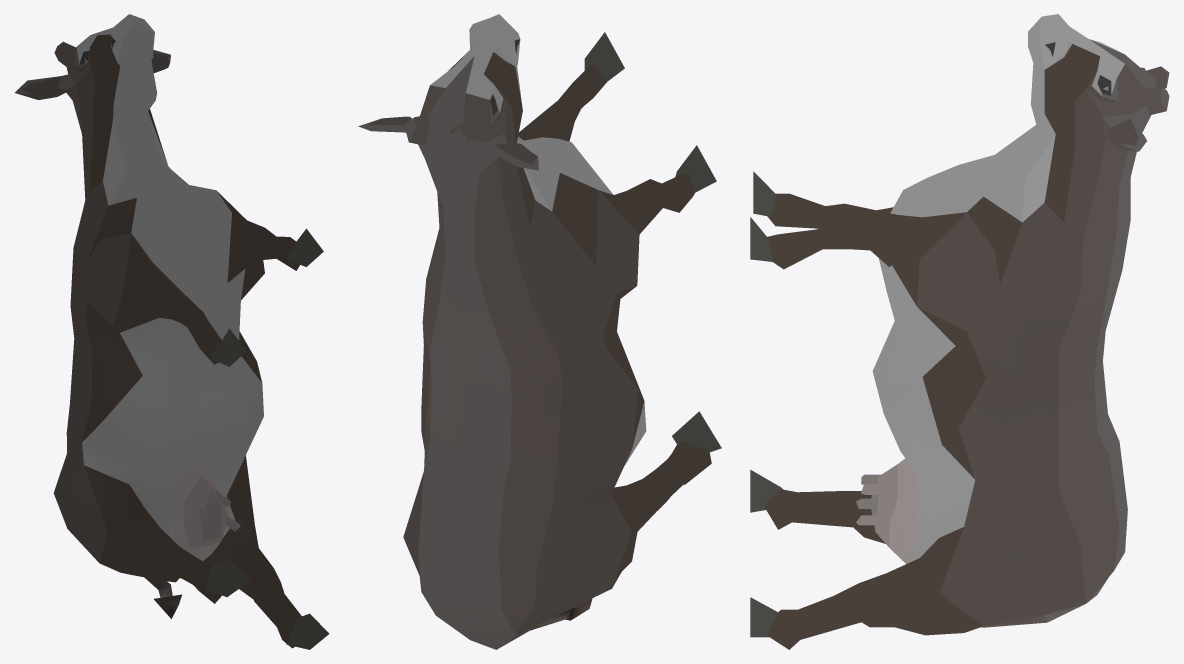
File: cow-fixed.fbx
3 renders of one model, left to right at view 1: azimuth 30°, elevation 25°; view 2: azimuth 150°, elevation 25°; view 3: azimuth 270°, elevation 25°, orthographic. The views are drawn at different scales.
Visible parts, largest first — view 1: Cow_2791_frame[0].001; view 2: Cow_2791_frame[0].001; view 3: Cow_2791_frame[0].001.
Part boxes in pixels (x1,y1,x2,y2): Cow_2791_frame[0].001: [15, 14, 329, 649]; Cow_2791_frame[0].001: [358, 14, 721, 649]; Cow_2791_frame[0].001: [750, 14, 1169, 649].
Bounding box in the file's own units: 8000 × 24500 × 15100.
